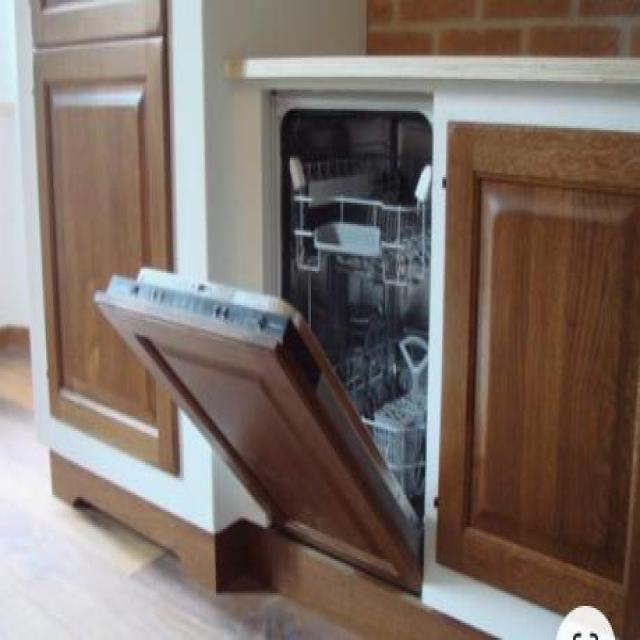dishwasher: (92, 77, 432, 591)
